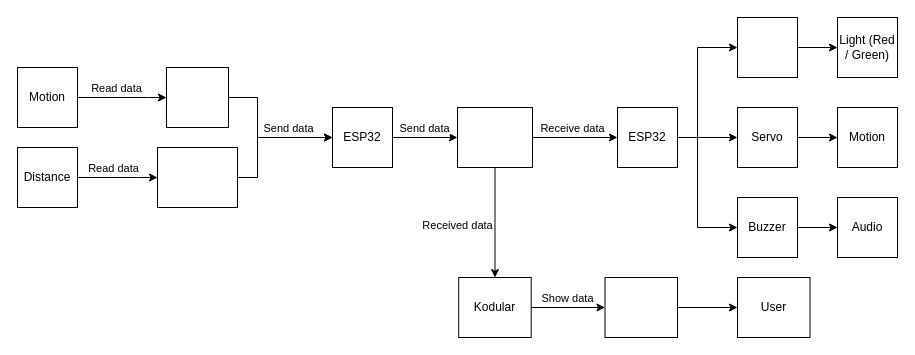
This 915x355 diagram has some shape labels left out. Here are the shapes that lost their labels. From the top down, the centre of each, then its label:
the point at 767,47: LED
the point at 197,97: PIR
the point at 494,137: Firebase
the point at 197,177: Ultrasonic
the point at 641,307: User Interface
